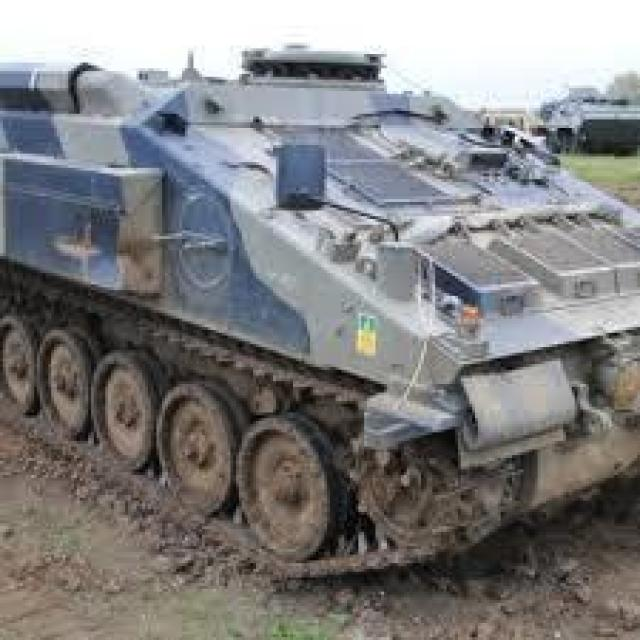Tanks: (6, 17, 572, 612)
